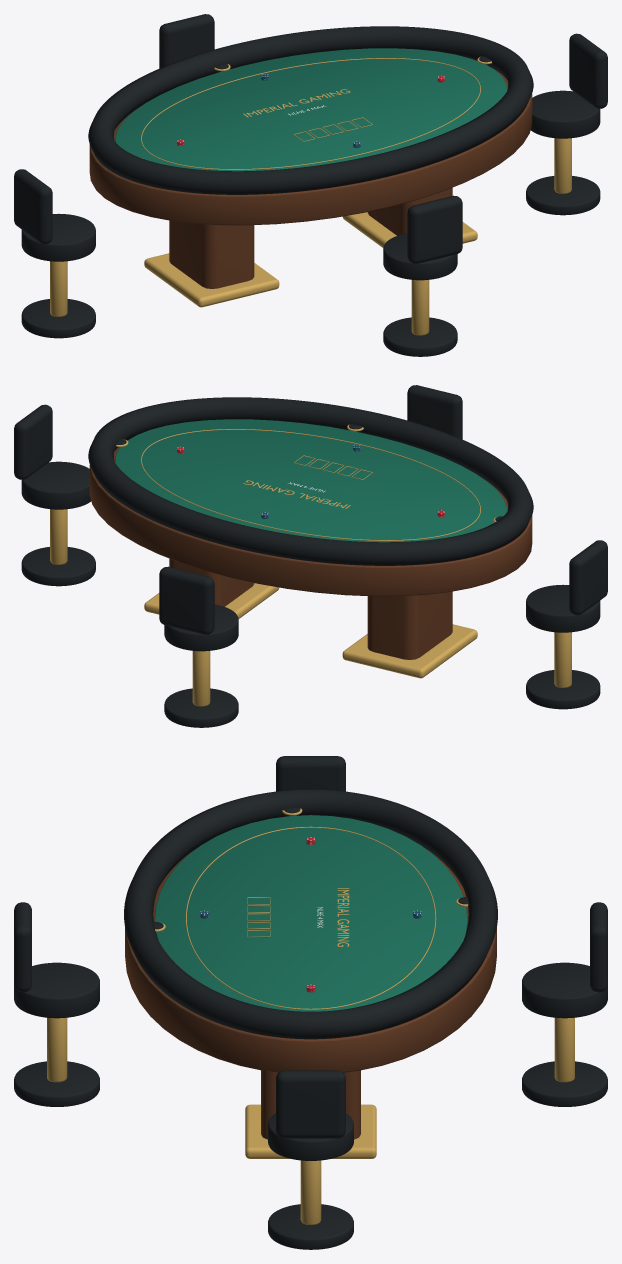
The model's file is NLHE_4.glb.
3 views of the same model, one above another, from view 1: azimuth 30°, elevation 25°; view 2: azimuth 150°, elevation 25°; view 3: azimuth 270°, elevation 25° (orthographic). The views are drawn at different scales.
Visible parts, largest first — view 1: Emerald playing surface, Padded perimeter rail, Walnut table cabinet, Pedestal, Seat 00 backrest, Seat 01 cushion, Pedestal brass shoe, Seat 03 cushion, Seat 03 backrest, Seat 01 backrest, Seat 02 backrest, Seat 00 foot (+9 smaller); view 2: Emerald playing surface, Padded perimeter rail, Walnut table cabinet, Pedestal, Seat 02 backrest, Seat 01 cushion, Pedestal brass shoe, Seat 03 cushion, Seat 03 backrest, Seat 01 backrest, Seat 00 backrest, Seat 01 foot (+9 smaller); view 3: Emerald playing surface, Padded perimeter rail, Walnut table cabinet, Seat 01 backrest, Seat 00 cushion, Seat 02 cushion, Seat 01 foot, Seat 00 foot, Seat 02 foot, Seat 03 backrest, Pedestal brass shoe.001, Seat 01 cushion (+7 smaller).
Part boxes in pixels (x1,y1,x2,y2): Emerald playing surface: [114, 48, 506, 171]; Padded perimeter rail: [88, 26, 533, 194]; Walnut table cabinet: [89, 68, 532, 225]; Pedestal: [169, 220, 254, 288]; Seat 00 backrest: [407, 195, 462, 263]; Seat 01 cushion: [530, 90, 600, 138]; Pedestal brass shoe: [144, 253, 279, 307]; Seat 03 cushion: [21, 213, 95, 261]; Seat 03 backrest: [14, 169, 52, 244]; Seat 01 backrest: [569, 33, 607, 108]; Seat 02 backrest: [159, 14, 214, 68]; Seat 00 foot: [383, 317, 457, 356]; Emerald playing surface: [115, 419, 507, 542]; Padded perimeter rail: [88, 397, 533, 565]; Walnut table cabinet: [89, 439, 532, 596]; Pedestal: [367, 591, 452, 659]; Seat 02 backrest: [159, 566, 214, 634]; Seat 01 cushion: [21, 461, 91, 509]; Pedestal brass shoe: [342, 624, 477, 678]; Seat 03 cushion: [526, 584, 600, 632]; Seat 03 backrest: [569, 540, 607, 615]; Seat 01 backrest: [14, 404, 52, 479]; Seat 00 backrest: [407, 385, 462, 439]; Seat 01 foot: [21, 547, 95, 586]; Emerald playing surface: [154, 815, 467, 1011]; Padded perimeter rail: [124, 789, 497, 1039]; Walnut table cabinet: [125, 849, 496, 1072]; Seat 01 backrest: [276, 1070, 345, 1138]; Seat 00 cushion: [14, 962, 99, 1018]; Seat 02 cushion: [522, 962, 607, 1018]; Seat 01 foot: [268, 1204, 353, 1249]; Seat 00 foot: [14, 1061, 99, 1106]; Seat 02 foot: [522, 1061, 607, 1106]; Seat 03 backrest: [276, 756, 345, 791]; Pedestal brass shoe.001: [245, 1104, 376, 1158]; Seat 01 cushion: [268, 1113, 353, 1160].
Size of the model in its own units: 3.36 by 0.9175 by 2.62.
